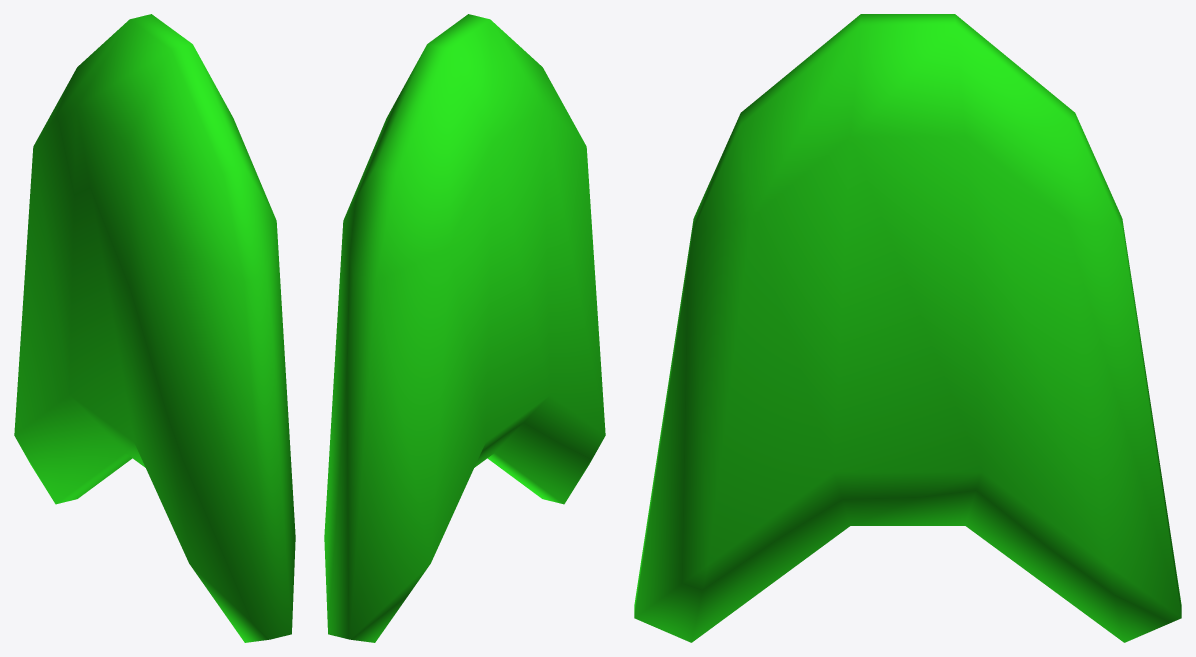
Rendered from thermostatButtonUp.glb.
3 views of the same model, side by side, from view 1: azimuth 30°, elevation 25°; view 2: azimuth 150°, elevation 25°; view 3: azimuth 270°, elevation 25° (orthographic). The views are drawn at different scales.
Parts seen in each view (by area): view 1: thermostat button up; view 2: thermostat button up; view 3: thermostat button up.
Boxes of the visible parts, bbox=[...] form: thermostat button up: bbox=[14, 14, 295, 642]; thermostat button up: bbox=[324, 14, 605, 642]; thermostat button up: bbox=[634, 14, 1181, 642].
Size of the model in its own units: 0.00566 by 0.0274 by 0.022.
